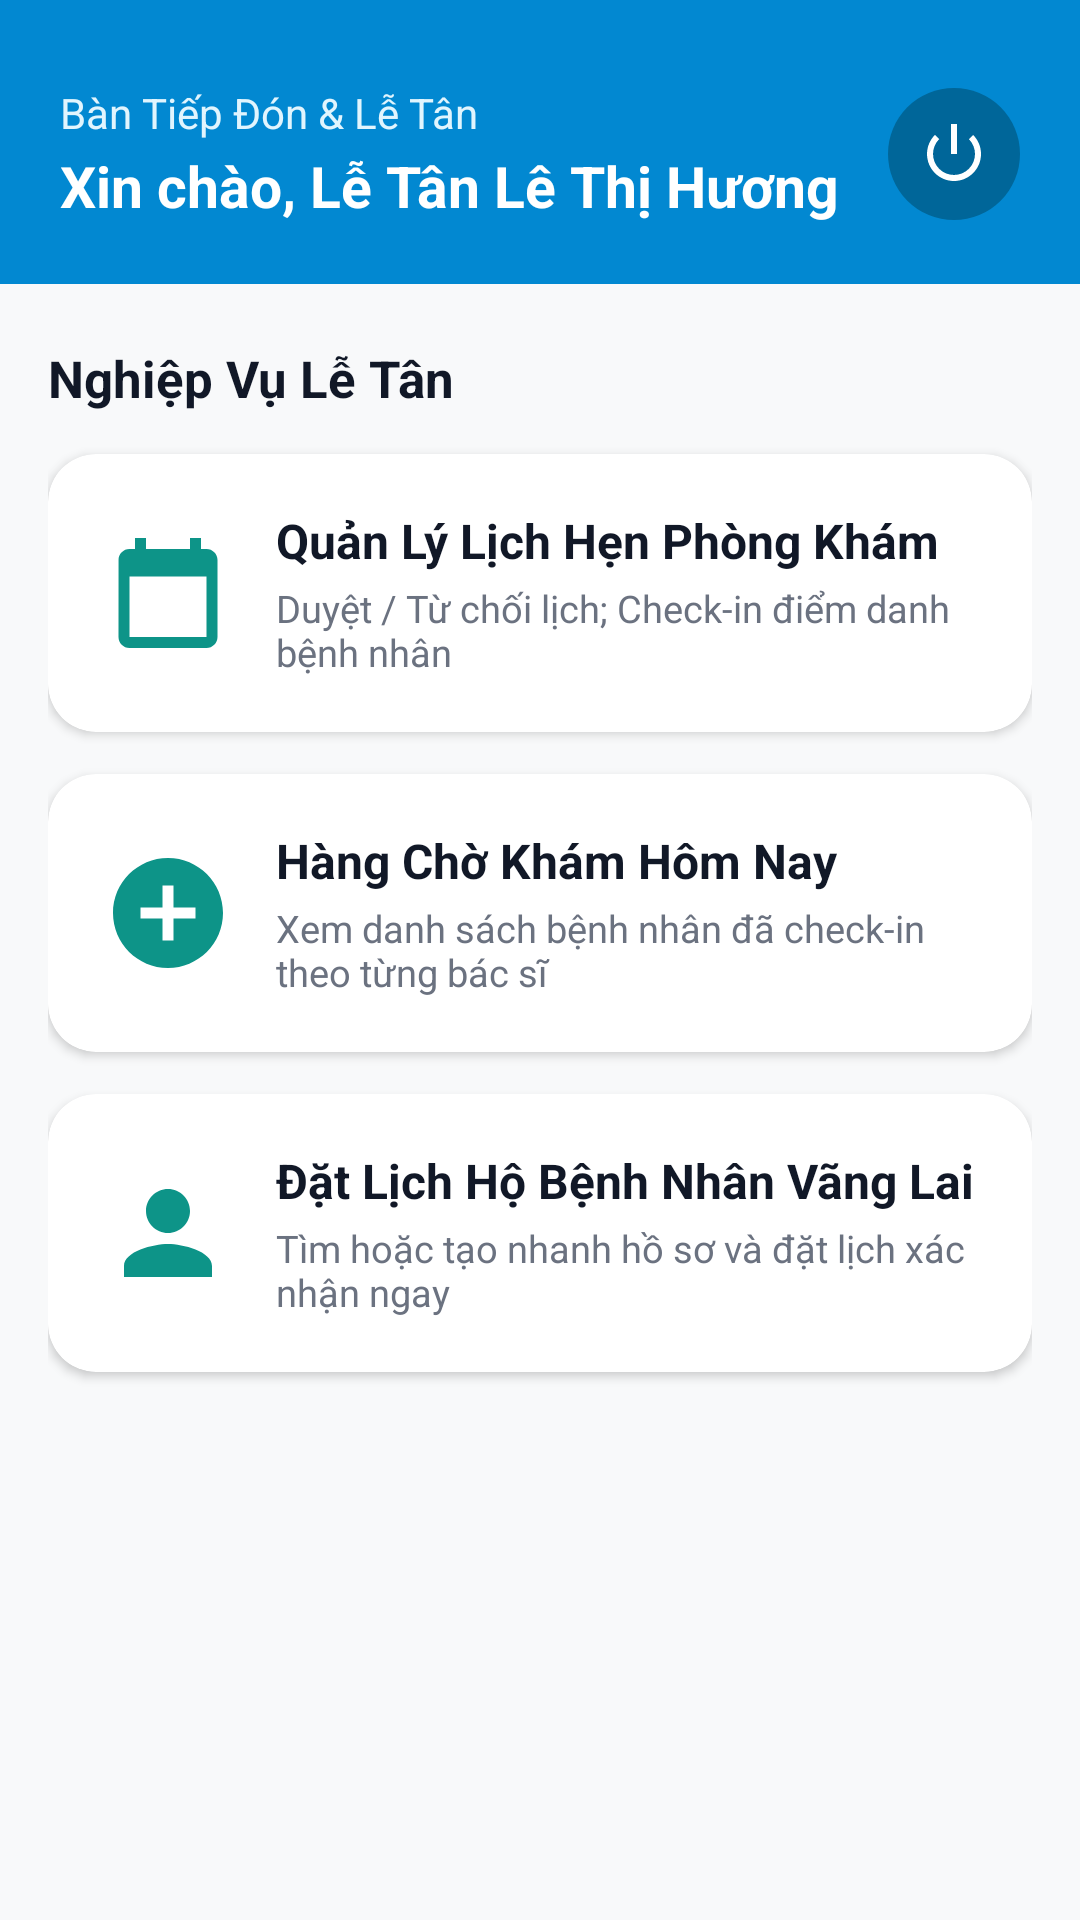

Icons on this 1080px x 1920px Android screen, each with the point to tap as (x=x, y=y):
card calendar: (x=168, y=593)
card person: (x=168, y=1233)
card plus: (x=168, y=913)
lock power off: (x=954, y=154)
